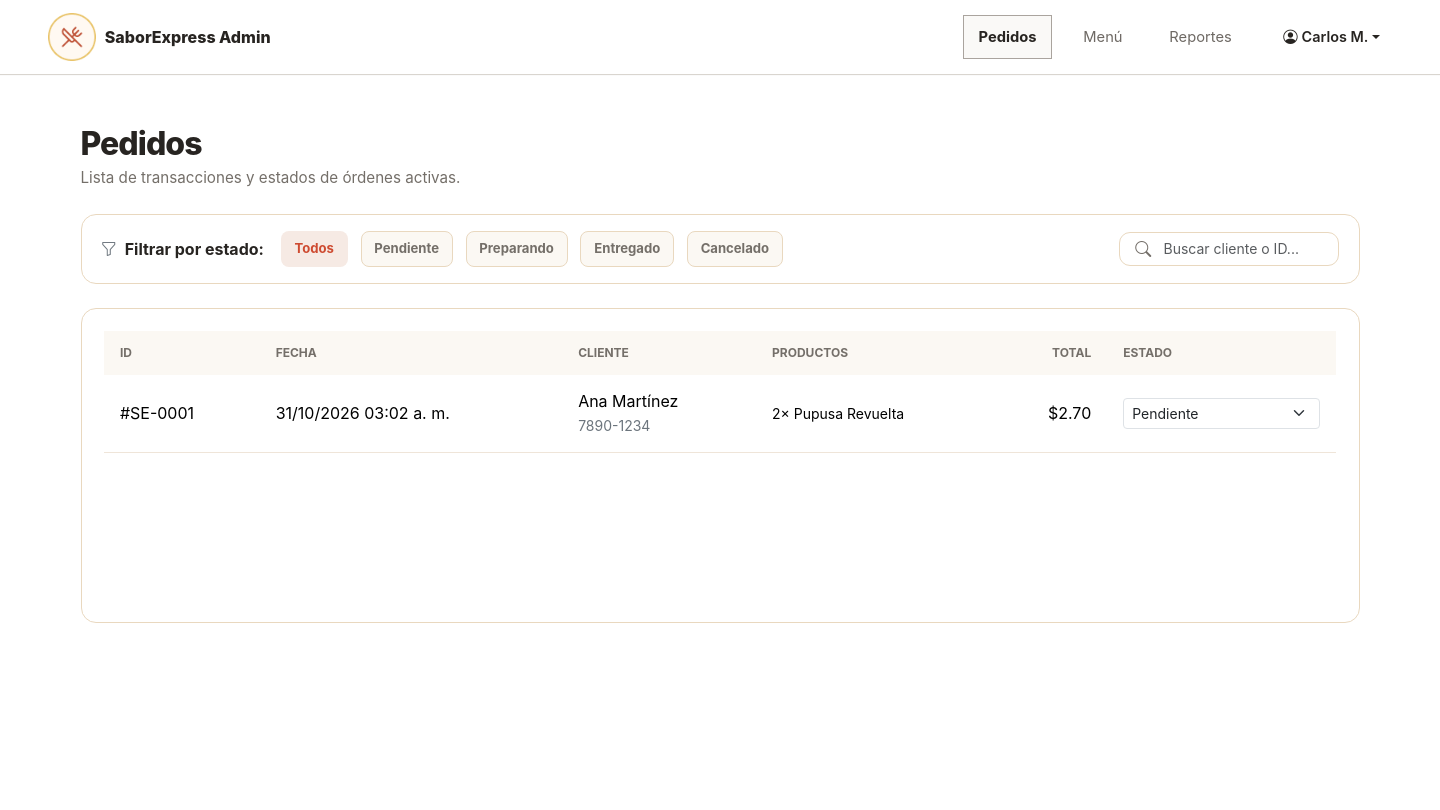
Scenario: Panel de pedidos (administrador) › al confirmar un estado final el pedido queda bloqueado y ya no se puede cambiar
Select "Cancelado" in the dropdown named "Estado del pedido SE-0001" at (1222, 413), box [1123, 398, 1320, 429]
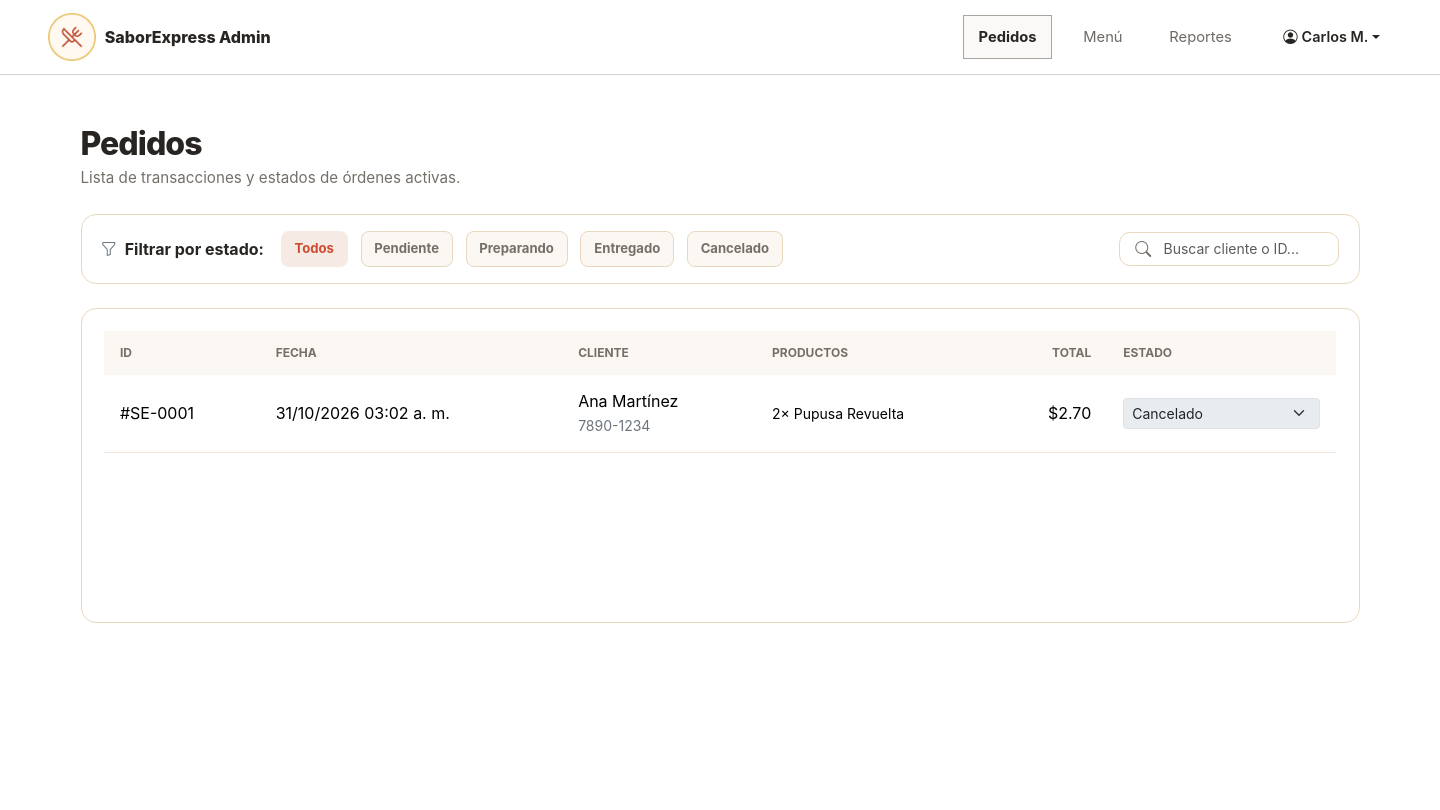
Expected: the button "Cancelado" is shown, [687, 231, 783, 267]
Now the dropdown named "Estado del pedido SE-0001" is disabled, box [1123, 398, 1320, 429]
